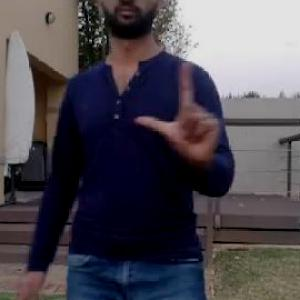land_hand: (129, 56, 227, 176)
